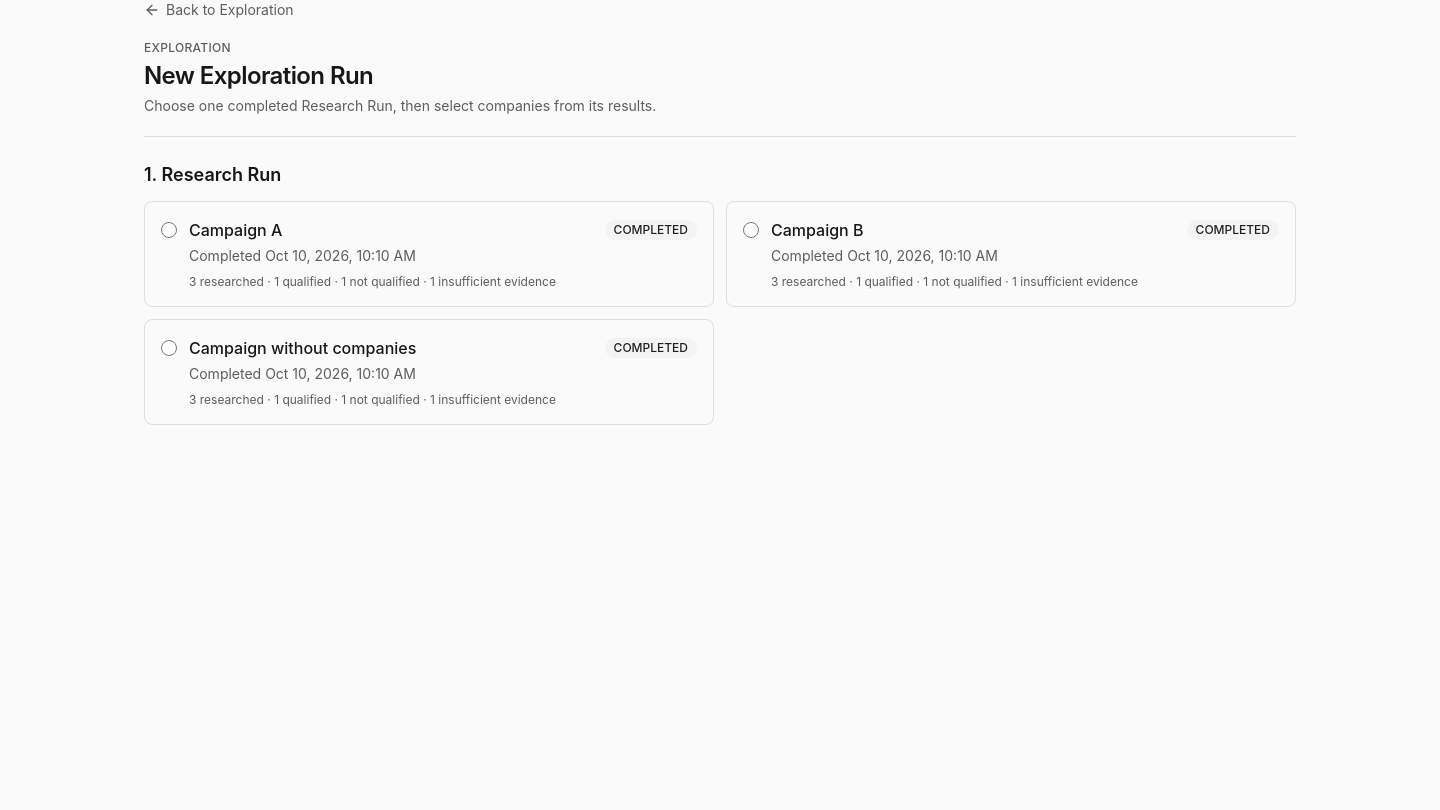
Test: NewExplorationRunPage › loads results for exactly one ResearchRun and never posts an empty selection
Click the radio button labelled "Campaign B" at (751, 230), box [743,222,759,238]
(page scrolled)
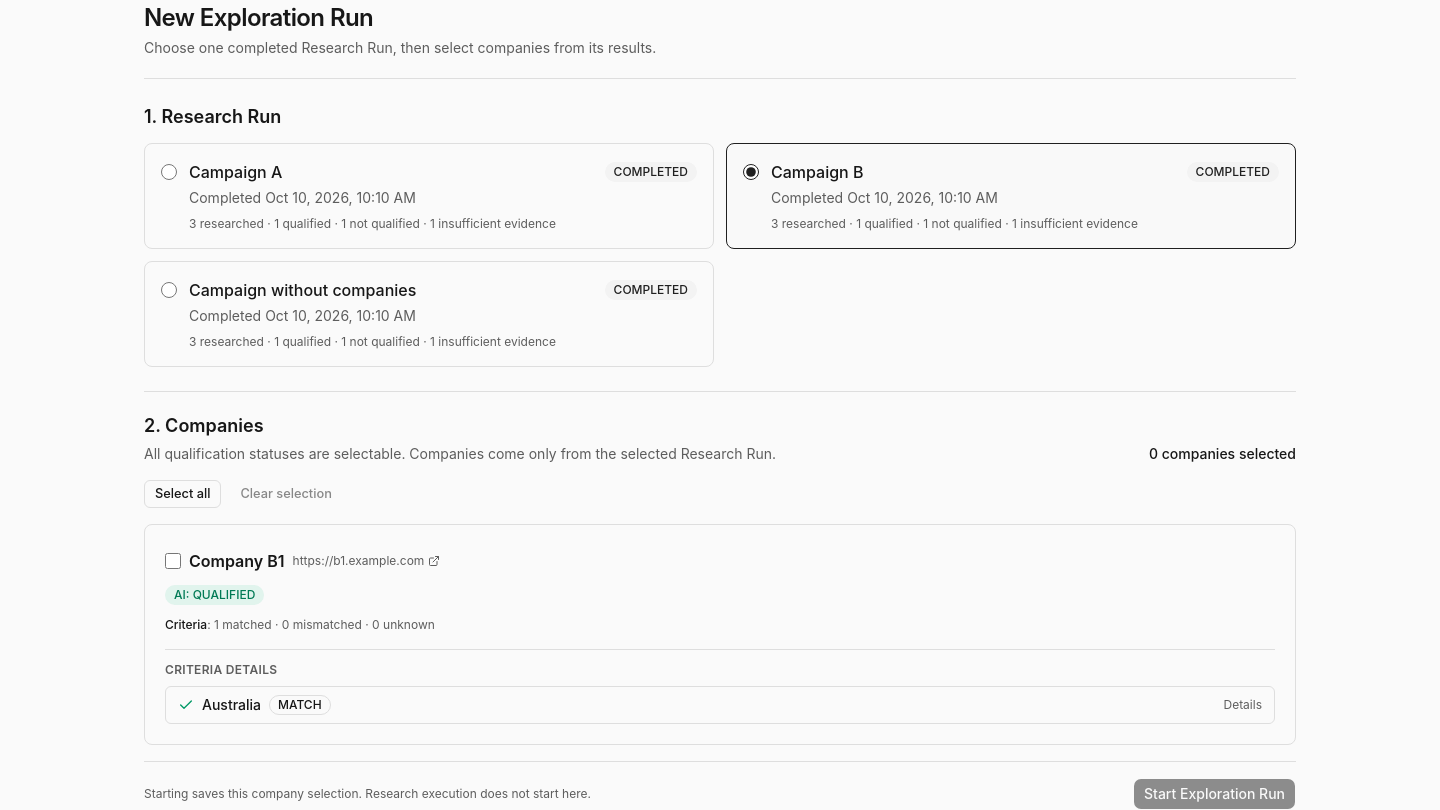
Expected: the heading "Company B1" is shown, [189,549,284,573]
Expected: the button "Start Exploration Run" is disabled, [1133,778,1296,809]
